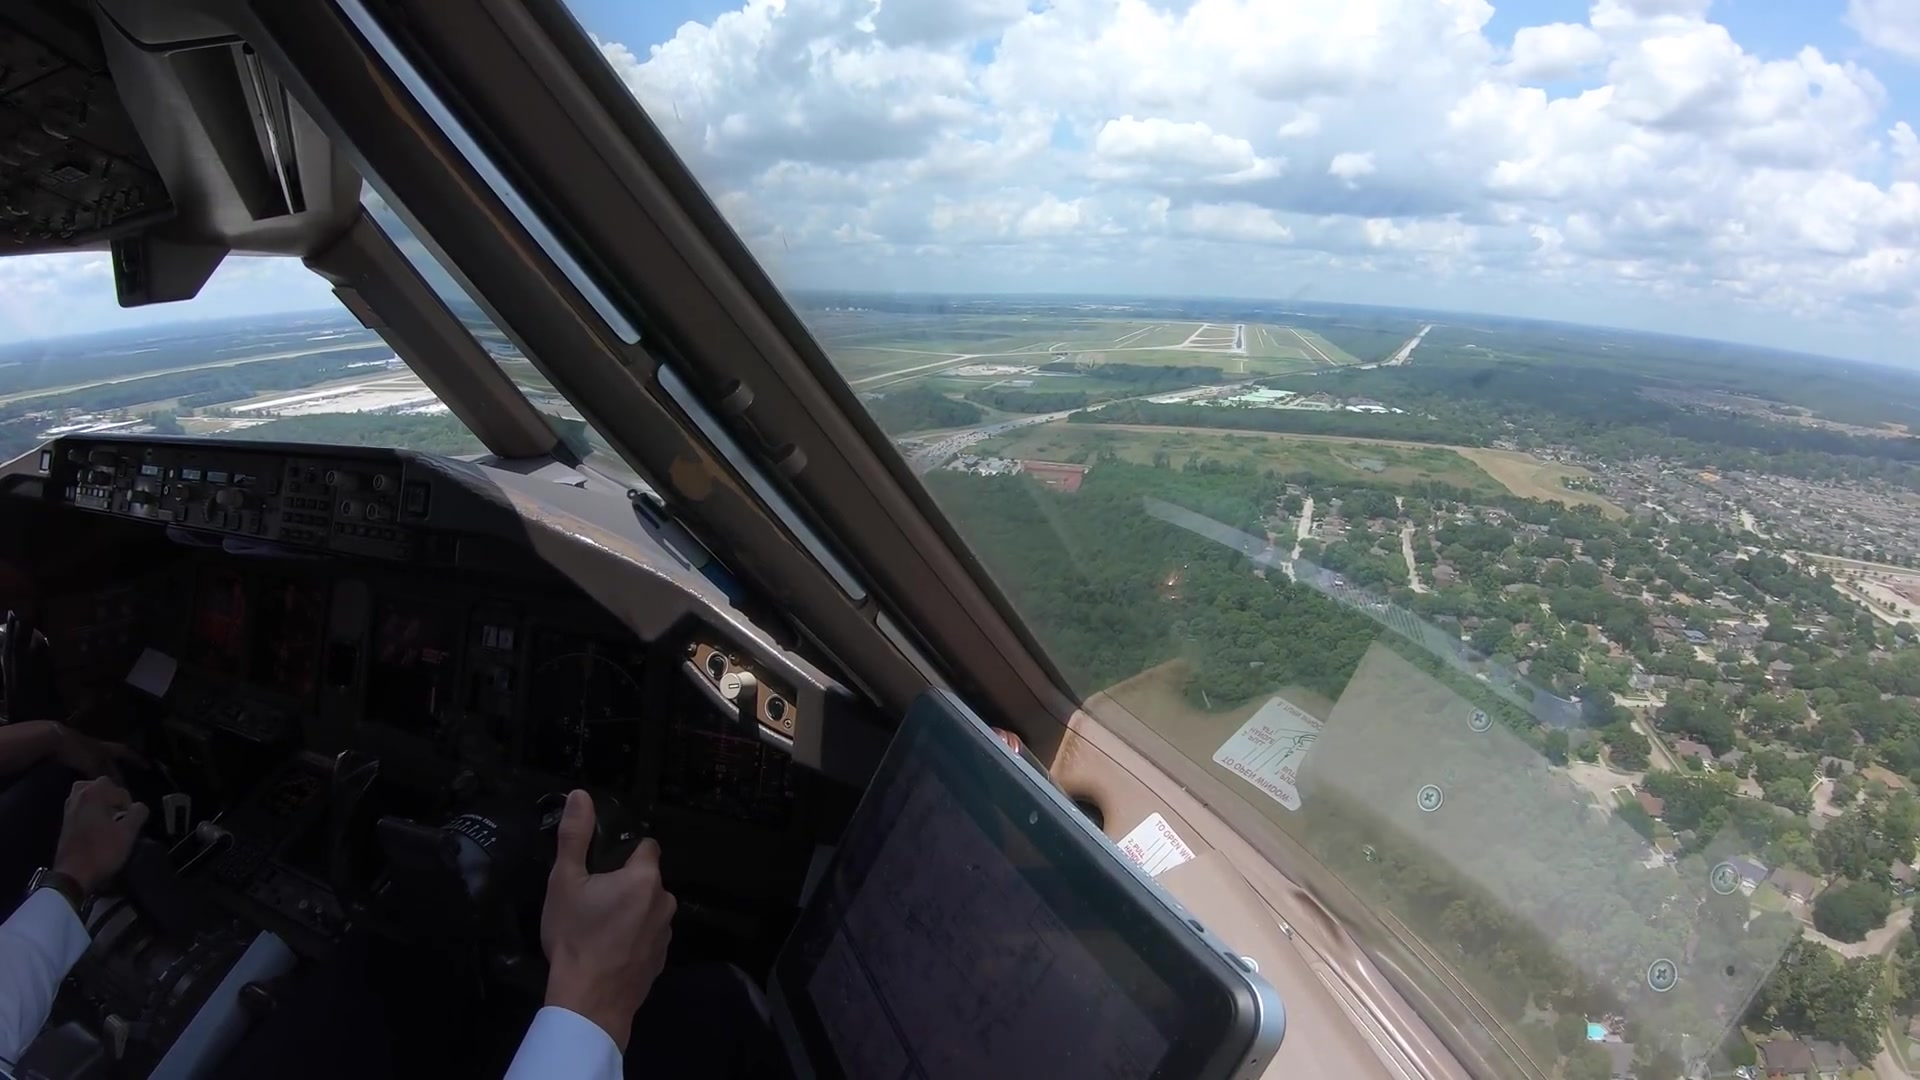runway: (1232, 322, 1247, 355)
